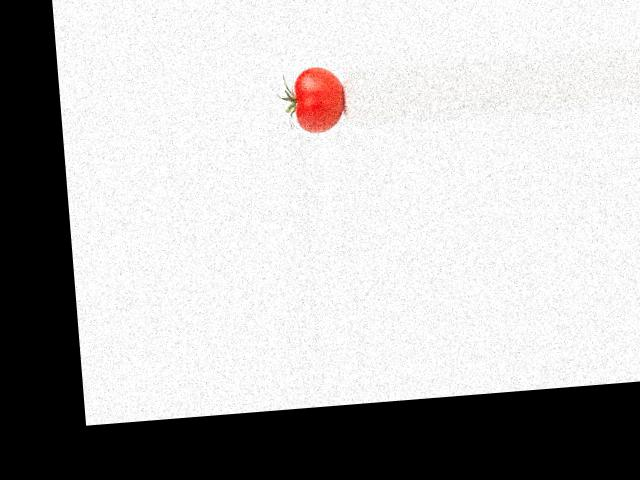tomato: (292, 64, 345, 133)
